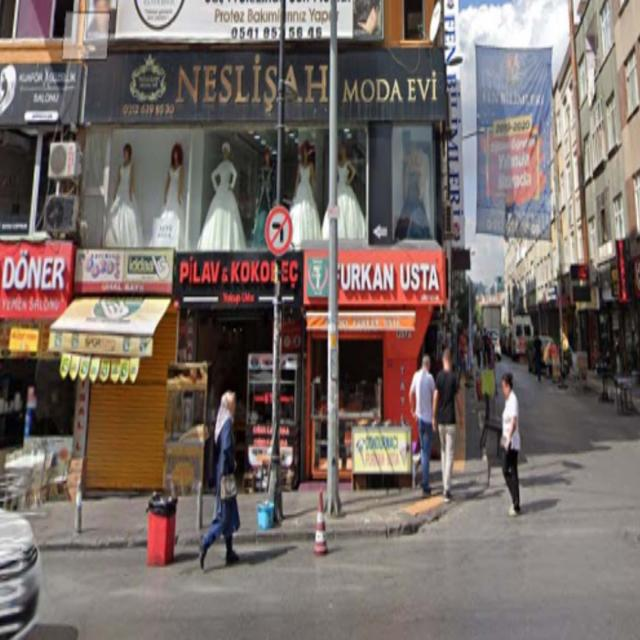soladonulmez: (265, 203, 292, 257)
